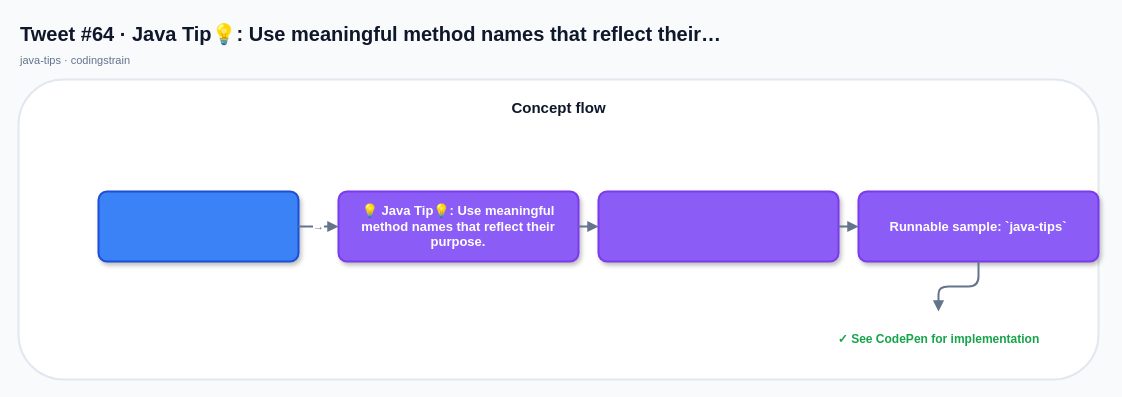
The diagram is 1122 pixels wide and 397 high, and some of its shapes have lost their labels. The centre of each missing label's shape, as x and y in pixels:
"Java Tip💡: Use meaningful method names that reflect their purpose. #J" belongs at [719,227].
"Problem / context" belongs at [199,227].
